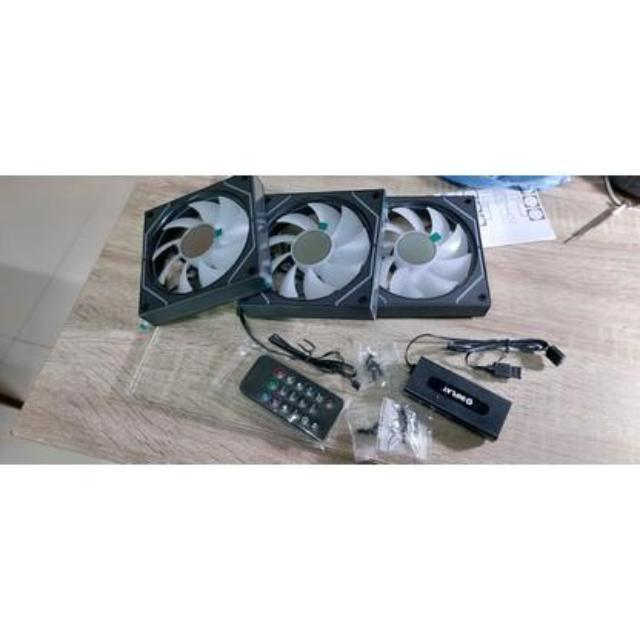CPU_Fan: (138, 168, 493, 338)
